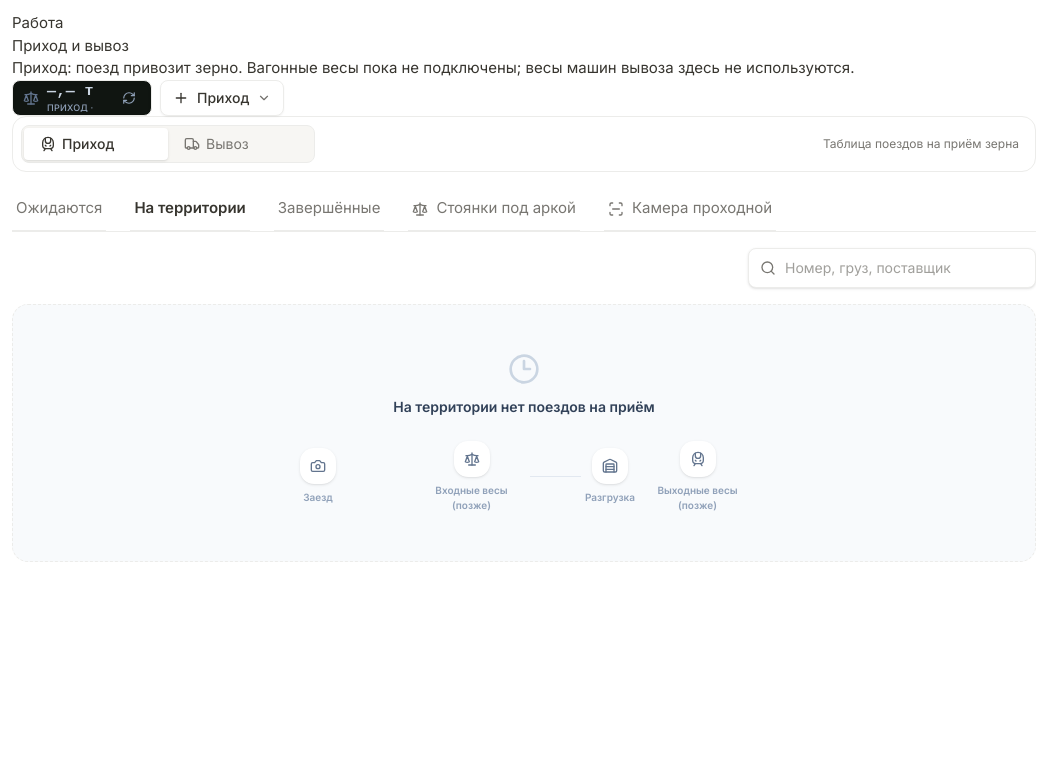
Test case: Grain list filters › passes the search text to the on-site list without a day filter
Type "Колос" into the search field named "Поиск" at [892, 268], box [748,248,1036,288]
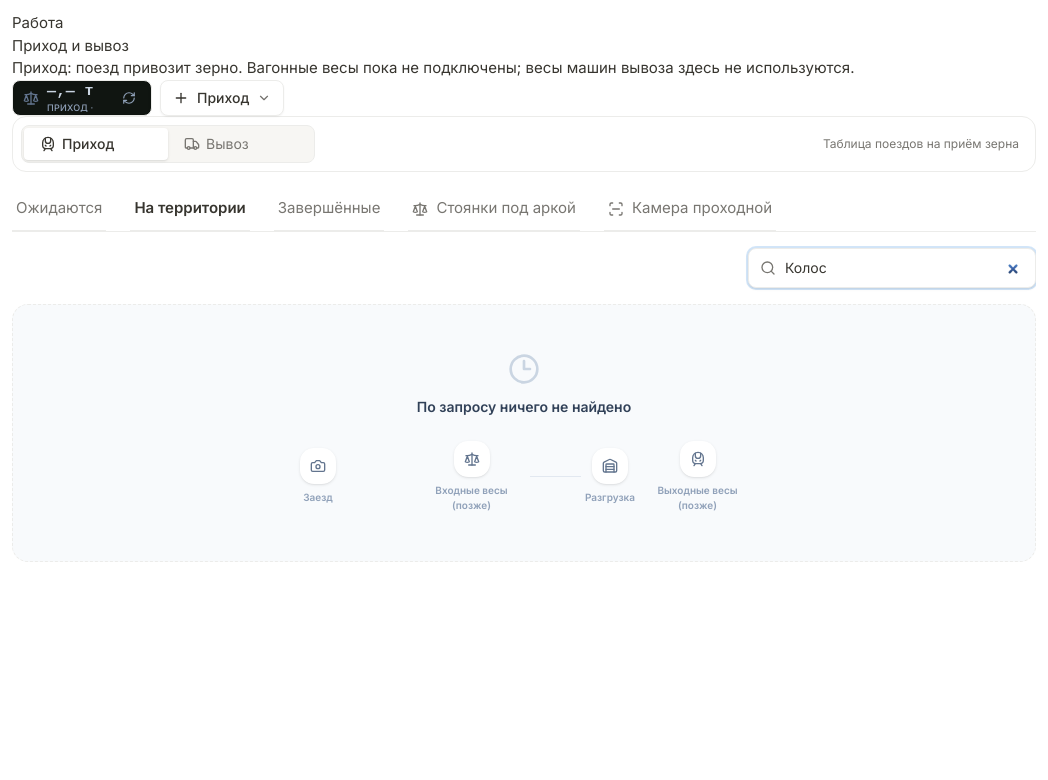
Click the tab "Ожидаются" at [59, 210], box [12,188,106,232]
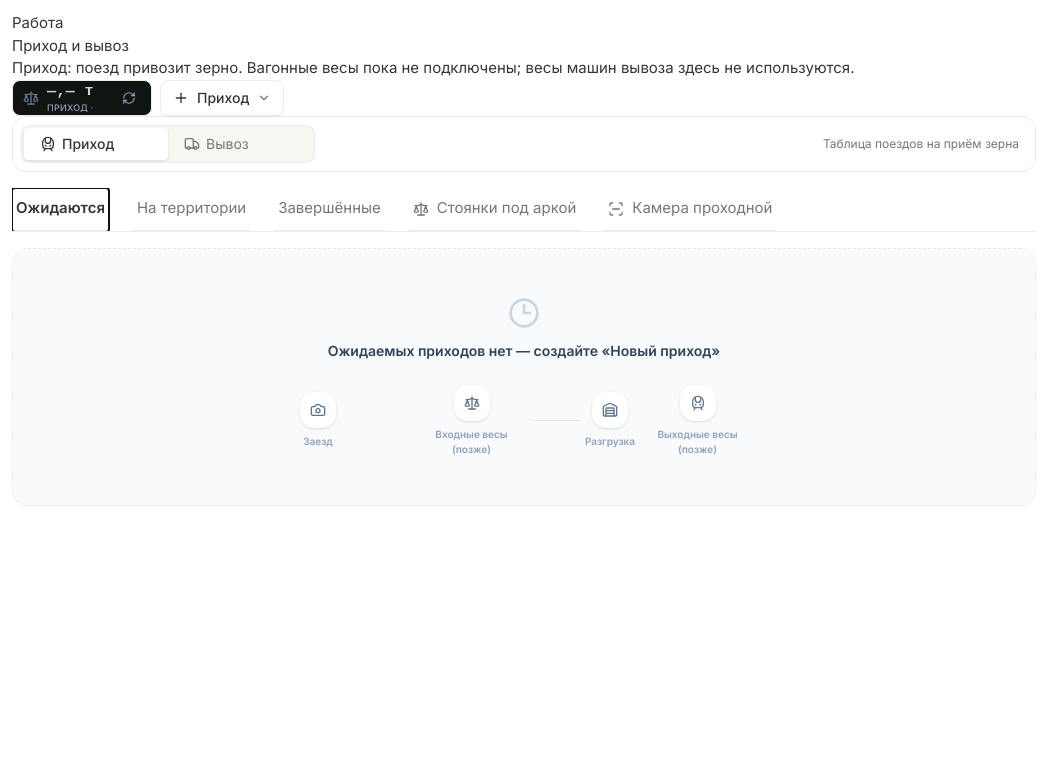
Now the search field labelled "Поиск" is gone
